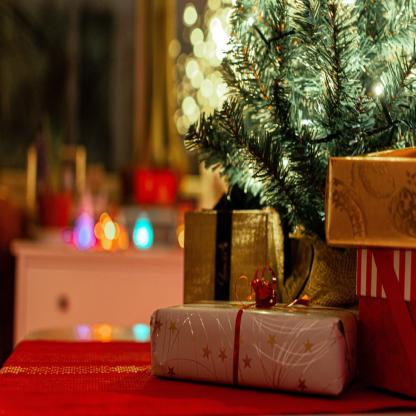present: (144, 275, 359, 395), (176, 196, 291, 290), (352, 242, 416, 395), (322, 141, 410, 248)
x_mas tree: (187, 0, 416, 209)
